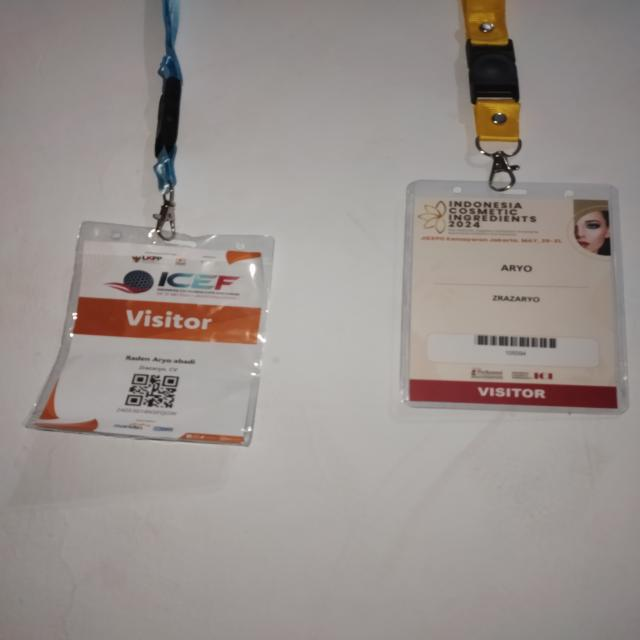ID_card: (23, 220, 274, 448), (399, 179, 627, 414)
